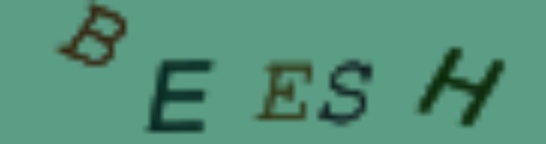B: (56, 1, 132, 72)
E: (141, 56, 218, 138), (251, 60, 320, 122)
H: (416, 44, 510, 129)
S: (316, 55, 377, 129)
